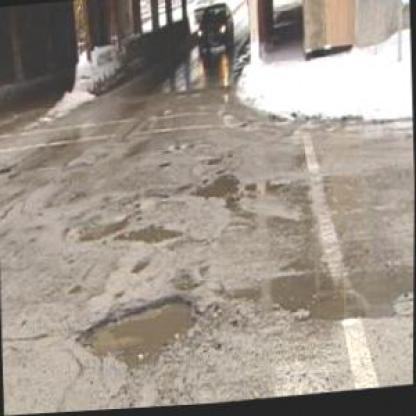pothole: (75, 291, 204, 376), (62, 207, 140, 250), (115, 220, 186, 250), (189, 169, 241, 205)
